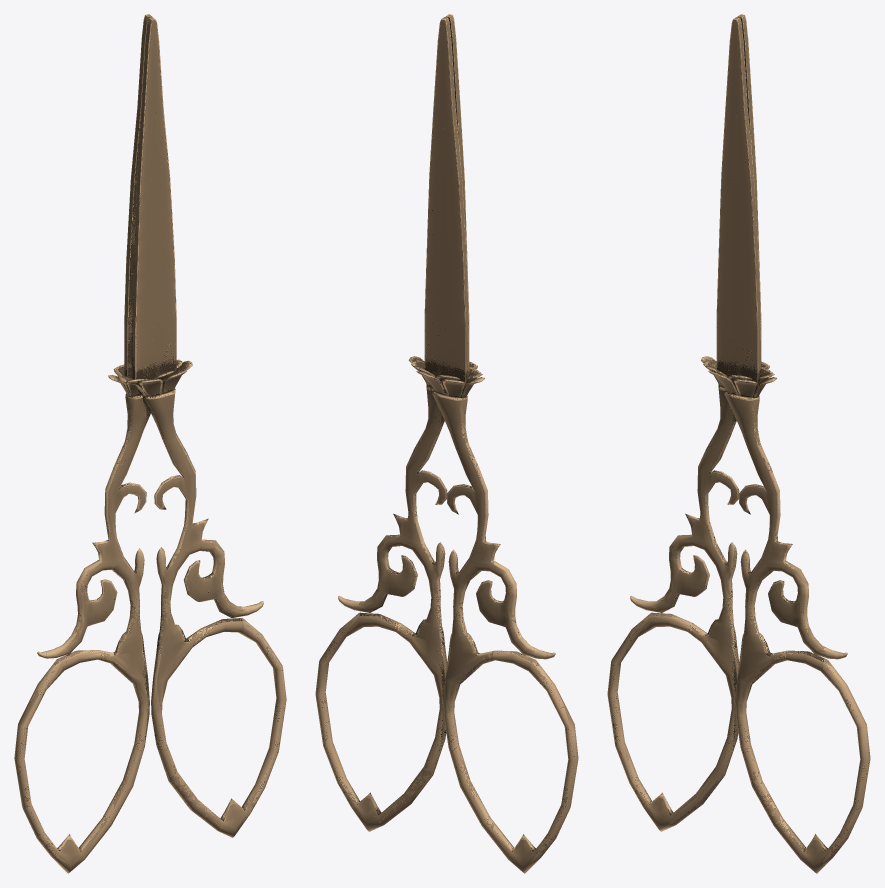
The model's file is buki_hasami.fbx.
The picture shows the model from 3 angles, left to right: view 1: azimuth 30°, elevation 25°; view 2: azimuth 150°, elevation 25°; view 3: azimuth 330°, elevation 25°; orthographic projection.
Visible parts, largest first — view 1: hasamiu; view 2: hasamiu; view 3: hasamiu.
Part boxes in pixels (left/top/right/bottom): hasamiu: left=14, top=14, right=286, bottom=873; hasamiu: left=315, top=14, right=578, bottom=873; hasamiu: left=607, top=14, right=870, bottom=873.
Size of the model in its own units: 5.43 by 16.3 by 0.8938.
